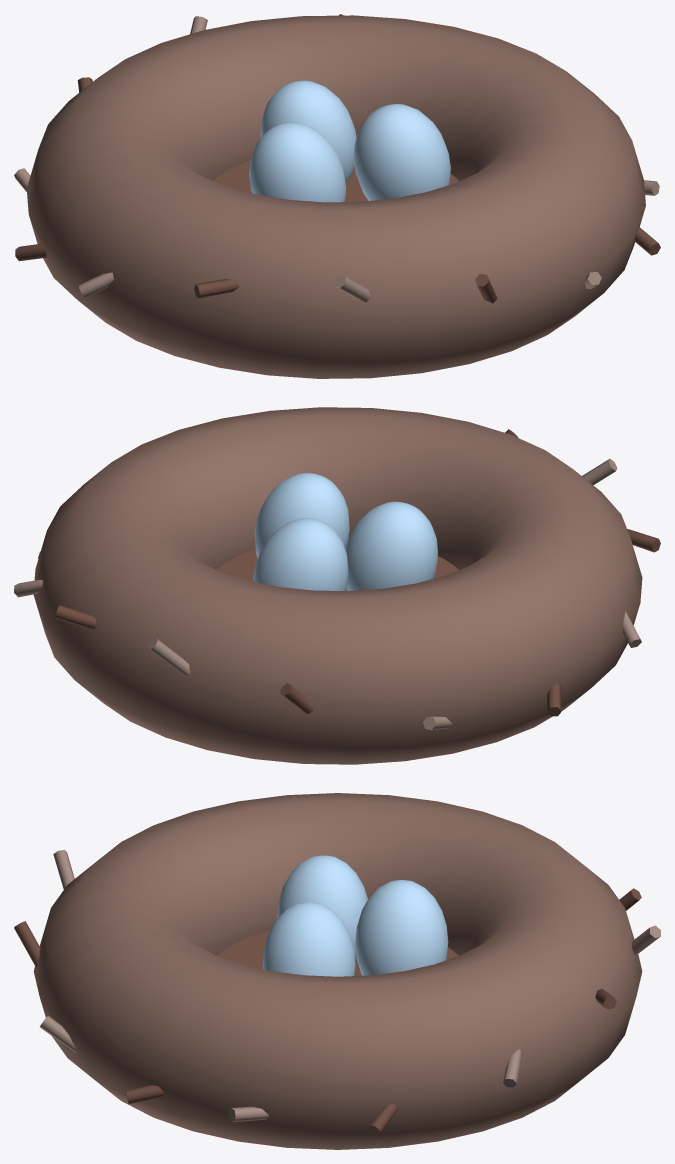
Rendered from nest.glb.
The picture shows the model from 3 angles, top to bottom: view 1: azimuth 30°, elevation 25°; view 2: azimuth 150°, elevation 25°; view 3: azimuth 270°, elevation 25°; orthographic projection.
Visible parts, largest first — view 1: nest; view 2: nest; view 3: nest.
Part boxes in pixels (x1=…): nest: x1=14, y1=14, x2=660, y2=378; nest: x1=14, y1=407, x2=660, y2=764; nest: x1=14, y1=793, x2=660, y2=1149.
Size of the model in its own units: 2.21 by 0.6497 by 2.23.
